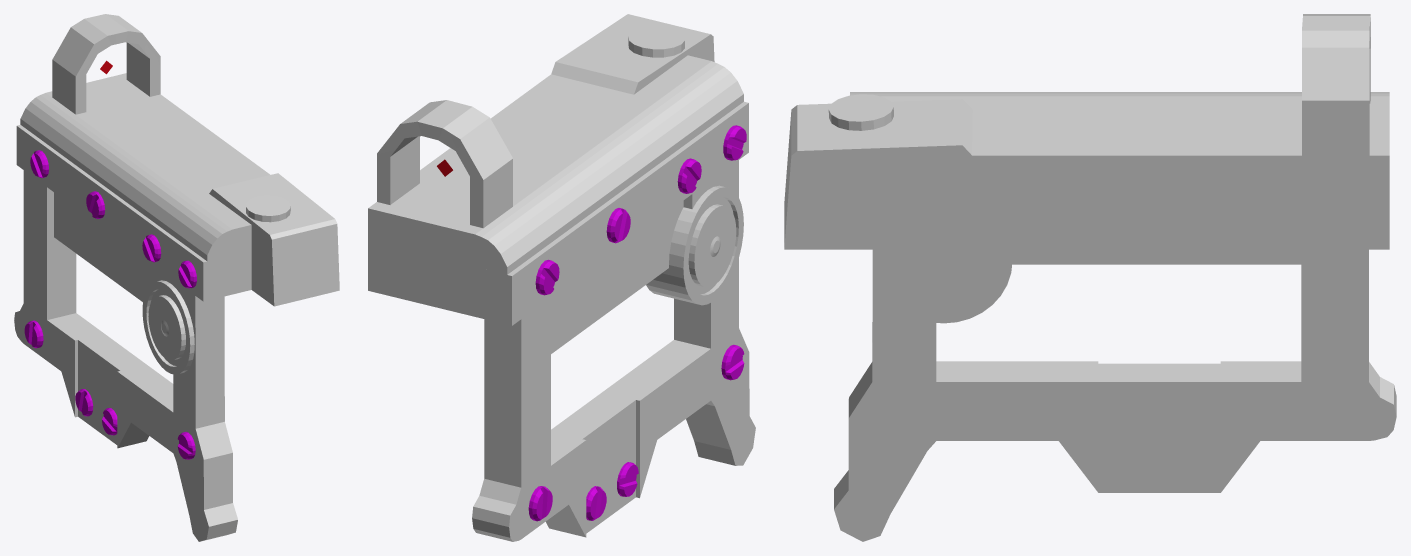
File: 1x_scope_ru_2.fbx
3 renders of one model, left to right at view 1: azimuth 30°, elevation 25°; view 2: azimuth 150°, elevation 25°; view 3: azimuth 270°, elevation 25°, orthographic. The views are drawn at different scales.
Visible parts, largest first — view 1: Cube; view 2: Cube; view 3: Cube.
Boxes of the visible parts, <box> form: Cube: <box>14,14,339,541</box>; Cube: <box>368,14,755,541</box>; Cube: <box>784,14,1396,541</box>.
Bounding box in the file's own units: 2.81 × 8.57 × 8.47.
